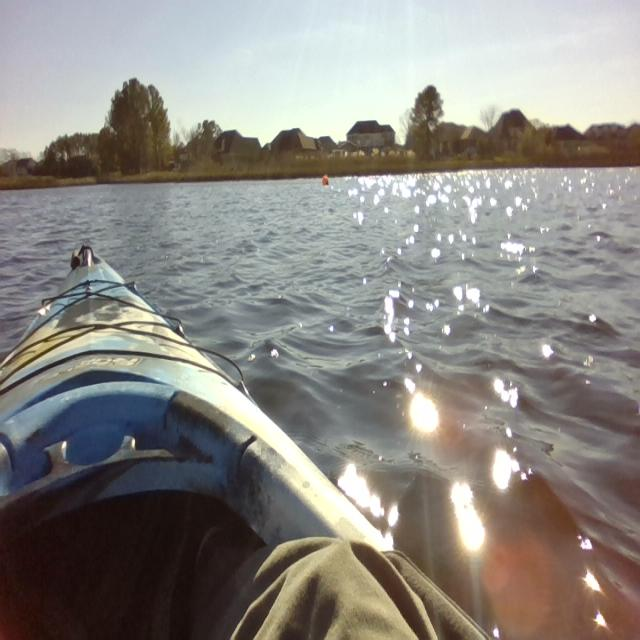Buoy: (320, 170, 332, 191)
